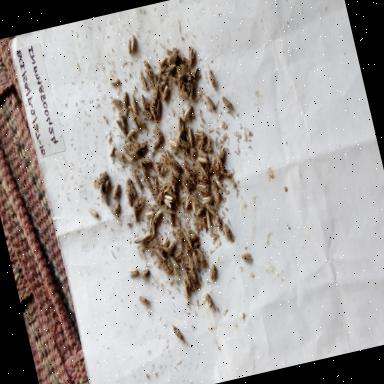pbw: (171, 320, 187, 346), (212, 210, 226, 238), (209, 178, 224, 204), (146, 98, 160, 125), (150, 204, 167, 226), (220, 93, 237, 115), (213, 149, 229, 172), (128, 91, 142, 117), (206, 261, 221, 284), (239, 246, 256, 266), (187, 260, 200, 286), (196, 248, 210, 272), (222, 220, 236, 244), (180, 156, 195, 178), (204, 91, 218, 114), (136, 290, 152, 310), (150, 130, 166, 150), (132, 169, 146, 191), (193, 201, 210, 219), (108, 71, 124, 90), (164, 132, 180, 151), (119, 88, 132, 111), (143, 57, 156, 80), (133, 108, 147, 129), (108, 94, 124, 112), (182, 228, 195, 250), (126, 32, 139, 54), (180, 104, 195, 123), (170, 153, 184, 173), (110, 200, 124, 220), (184, 46, 198, 66), (178, 282, 192, 302), (163, 202, 179, 219), (172, 44, 186, 63), (183, 268, 195, 290), (144, 68, 156, 90), (184, 124, 196, 146), (153, 98, 165, 120), (154, 160, 166, 182), (206, 69, 219, 89), (153, 244, 166, 264), (159, 84, 172, 104), (124, 126, 140, 142), (139, 266, 153, 284), (190, 250, 201, 272), (127, 176, 138, 198), (98, 188, 110, 208), (124, 36, 136, 56), (196, 152, 211, 168), (204, 210, 216, 230), (133, 195, 147, 212), (196, 178, 210, 195), (124, 190, 136, 209), (167, 211, 179, 230), (150, 84, 162, 103), (189, 191, 201, 210), (190, 64, 202, 83), (127, 266, 141, 282), (88, 206, 102, 222), (138, 233, 154, 247), (140, 107, 154, 123), (176, 116, 187, 136), (201, 164, 212, 184), (153, 126, 165, 144), (138, 74, 150, 92), (116, 120, 128, 138), (186, 144, 198, 162), (204, 136, 216, 154), (122, 148, 134, 166), (130, 134, 142, 152), (218, 142, 228, 163), (218, 168, 233, 182), (156, 255, 167, 274), (178, 136, 191, 152), (166, 175, 178, 192), (204, 202, 216, 219), (124, 181, 134, 201), (138, 158, 148, 178), (164, 258, 174, 278), (174, 127, 185, 145), (165, 48, 179, 62), (176, 86, 190, 100), (166, 187, 178, 203), (96, 178, 108, 194), (106, 142, 118, 158), (164, 148, 174, 167), (186, 81, 196, 100), (183, 195, 194, 212), (138, 92, 148, 110), (170, 256, 180, 274), (148, 220, 158, 238), (182, 241, 192, 259), (212, 162, 221, 182), (153, 189, 165, 204), (194, 125, 206, 140), (116, 112, 126, 130), (150, 177, 160, 195), (151, 72, 161, 90), (196, 137, 207, 153), (170, 166, 181, 182), (102, 178, 113, 194), (159, 152, 170, 168), (181, 179, 192, 195), (172, 229, 182, 246), (131, 117, 141, 134), (144, 207, 156, 221), (162, 194, 174, 208), (156, 56, 170, 68), (180, 56, 192, 70), (200, 194, 214, 206), (170, 74, 182, 88), (98, 170, 110, 184), (114, 148, 126, 162), (124, 138, 134, 154), (160, 242, 172, 255), (140, 154, 152, 167), (196, 147, 208, 160), (144, 243, 156, 256), (191, 170, 202, 184), (188, 171, 197, 188), (128, 147, 140, 159), (132, 208, 141, 224), (164, 61, 176, 73), (157, 78, 169, 90), (172, 248, 184, 260), (209, 175, 219, 189), (192, 237, 202, 251), (132, 237, 144, 248), (136, 141, 148, 152), (159, 234, 170, 246), (191, 282, 204, 292), (200, 213, 208, 229), (144, 176, 152, 192), (167, 240, 177, 252), (182, 70, 192, 82), (152, 237, 160, 250), (188, 232, 198, 242), (159, 72, 169, 82)
